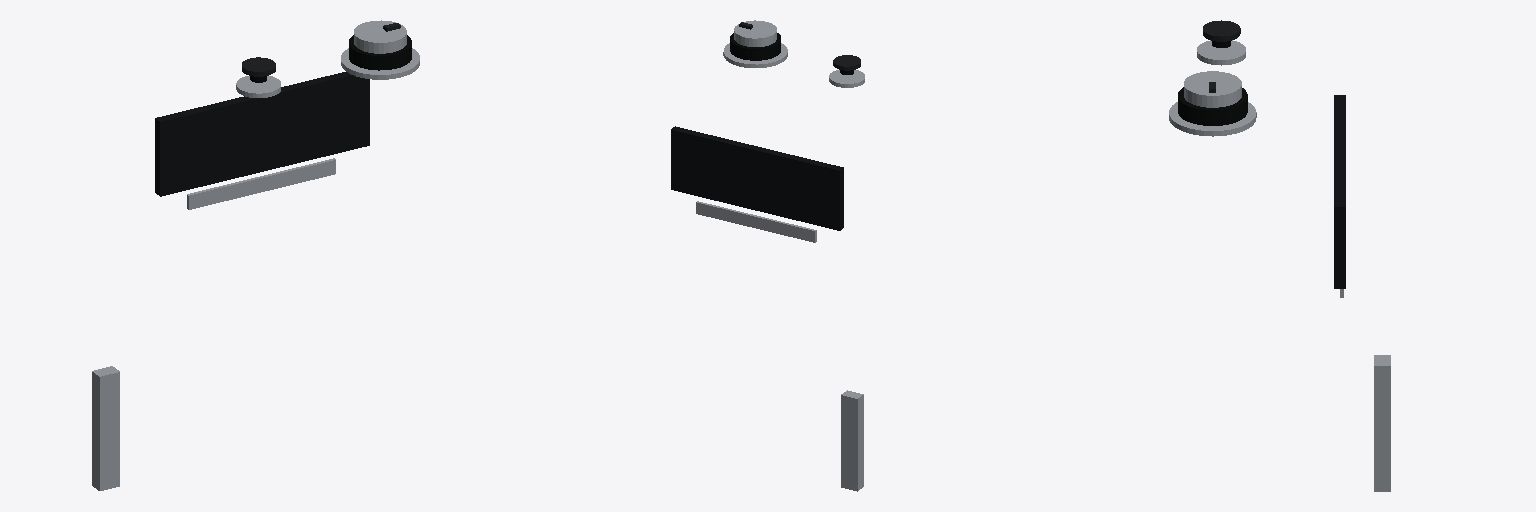
URDF robot description (air_purifier):
<robot name="air_purifier">
  <link name="body">
    <inertial>
      <origin xyz="0 0 0.334" rpy="0 0 0" />
      <mass value="9" />
      <inertia ixx="0.385368" ixy="0" ixz="0" iyy="0.431868" iyz="0" izz="0.1479" />
    </inertial>
    <visual>
      <geometry>
        <mesh filename="meshes/base_plinth.glb" />
      </geometry>
      <material name="charcoal_abs">
        <color rgba="0.14 0.15 0.16 1" />
      </material>
    </visual>
    <visual>
      <origin xyz="0 0 0.02" rpy="0 0 0" />
      <geometry>
        <mesh filename="meshes/main_shell.glb" />
      </geometry>
      <material name="shell_white">
        <color rgba="0.93 0.94 0.92 1" />
      </material>
    </visual>
    <visual>
      <origin xyz="0 0 0.654" rpy="0 0 0" />
      <geometry>
        <mesh filename="meshes/top_cap.glb" />
      </geometry>
      <material name="shell_white">
        <color rgba="0.93 0.94 0.92 1" />
      </material>
    </visual>
    <visual>
      <origin xyz="0 -0.03 0.658" rpy="0 0 0" />
      <geometry>
        <mesh filename="meshes/top_exhaust.glb" />
      </geometry>
      <material name="charcoal_abs">
        <color rgba="0.14 0.15 0.16 1" />
      </material>
    </visual>
    <visual>
      <origin xyz="0 0.03 0.658" rpy="0 0 0" />
      <geometry>
        <mesh filename="meshes/control_deck.glb" />
      </geometry>
      <material name="smoked_glass">
        <color rgba="0.1 0.11 0.12 0.9" />
      </material>
    </visual>
    <visual>
      <origin xyz="0 -0.117 0.305" rpy="1.5708 0 0" />
      <geometry>
        <mesh filename="meshes/rear_intake.glb" />
      </geometry>
      <material name="charcoal_abs">
        <color rgba="0.14 0.15 0.16 1" />
      </material>
    </visual>
    <visual>
      <origin xyz="0 0.117 0.58" rpy="0 0 0" />
      <geometry>
        <box size="0.182 0.008 0.062" />
      </geometry>
      <material name="smoked_glass">
        <color rgba="0.1 0.11 0.12 0.9" />
      </material>
    </visual>
    <visual>
      <origin xyz="0 0.1185 0.536" rpy="0 0 0" />
      <geometry>
        <box size="0.128 0.003 0.012" />
      </geometry>
      <material name="brushed_aluminum">
        <color rgba="0.63 0.65 0.67 1" />
      </material>
    </visual>
    <visual>
      <origin xyz="0.052 0.03 0.662" rpy="0 0 0" />
      <geometry>
        <cylinder radius="0.03" length="0.004" />
      </geometry>
      <material name="brushed_aluminum">
        <color rgba="0.63 0.65 0.67 1" />
      </material>
    </visual>
    <visual>
      <origin xyz="-0.05 0.036 0.662" rpy="0 0 0" />
      <geometry>
        <cylinder radius="0.017" length="0.004" />
      </geometry>
      <material name="brushed_aluminum">
        <color rgba="0.63 0.65 0.67 1" />
      </material>
    </visual>
    <collision name="body__visual_1__hull_001">
      <geometry>
        <mesh filename="meshes/collision/cache/ea7131efe0071874e7fa7aa3__hull_001.obj" />
      </geometry>
    </collision>
    <collision name="body__visual_2__hull_001">
      <origin xyz="0 0 0.02" rpy="0 0 0" />
      <geometry>
        <mesh filename="meshes/collision/cache/fce6f4a88becaa7b729aeb84__hull_001.obj" />
      </geometry>
    </collision>
    <collision name="body__visual_3__hull_001">
      <origin xyz="0 0 0.654" rpy="0 0 0" />
      <geometry>
        <mesh filename="meshes/collision/cache/f56e50df85797498d2b95fa3__hull_001.obj" />
      </geometry>
    </collision>
    <collision name="body__visual_4__hull_001">
      <origin xyz="0 -0.03 0.658" rpy="0 0 0" />
      <geometry>
        <mesh filename="meshes/collision/cache/e8f8333ead6528121746bf22__hull_001.obj" />
      </geometry>
    </collision>
    <collision name="body__visual_5__hull_001">
      <origin xyz="0 0.03 0.658" rpy="0 0 0" />
      <geometry>
        <mesh filename="meshes/collision/cache/e530d58affb329de1ba5adee__hull_001.obj" />
      </geometry>
    </collision>
    <collision name="body__visual_6__hull_001">
      <origin xyz="0 -0.117 0.305" rpy="1.5708 0 0" />
      <geometry>
        <mesh filename="meshes/collision/cache/5c7f7a3e9c482f12d4eb3c29__hull_001.obj" />
      </geometry>
    </collision>
    <collision name="body__visual_7">
      <origin xyz="0 0.117 0.58" rpy="0 0 0" />
      <geometry>
        <box size="0.182 0.008 0.062" />
      </geometry>
    </collision>
    <collision name="body__visual_8">
      <origin xyz="0 0.1185 0.536" rpy="0 0 0" />
      <geometry>
        <box size="0.128 0.003 0.012" />
      </geometry>
    </collision>
    <collision name="body__visual_9">
      <origin xyz="0.052 0.03 0.662" rpy="0 0 0" />
      <geometry>
        <cylinder radius="0.03" length="0.004" />
      </geometry>
    </collision>
    <collision name="body__visual_10">
      <origin xyz="-0.05 0.036 0.662" rpy="0 0 0" />
      <geometry>
        <cylinder radius="0.017" length="0.004" />
      </geometry>
    </collision>
  </link>
  <link name="filter_door">
    <inertial>
      <origin xyz="-0.144 0.009 0" rpy="0 0 0" />
      <mass value="1.1" />
      <inertia ixx="0.0220389" ixy="0" ixz="0" iyy="0.0296124" iyz="0" izz="0.0076329" />
    </inertial>
    <visual>
      <origin xyz="-0.144 0.009 0" rpy="0 0 0" />
      <geometry>
        <mesh filename="meshes/filter_door_panel.glb" />
      </geometry>
      <material name="shell_white">
        <color rgba="0.93 0.94 0.92 1" />
      </material>
    </visual>
    <visual>
      <origin xyz="-0.144 0.016 -0.055" rpy="1.5708 0 0" />
      <geometry>
        <mesh filename="meshes/filter_door_grille.glb" />
      </geometry>
      <material name="charcoal_abs">
        <color rgba="0.14 0.15 0.16 1" />
      </material>
    </visual>
    <visual>
      <origin xyz="-0.263 0.022 0.02" rpy="0 0 0" />
      <geometry>
        <box size="0.018 0.012 0.095" />
      </geometry>
      <material name="brushed_aluminum">
        <color rgba="0.63 0.65 0.67 1" />
      </material>
    </visual>
    <collision name="filter_door__visual_1__hull_001">
      <origin xyz="-0.144 0.009 0" rpy="0 0 0" />
      <geometry>
        <mesh filename="meshes/collision/cache/64c93fb4611c499a2d91a11c__hull_001.obj" />
      </geometry>
    </collision>
    <collision name="filter_door__visual_2__hull_001">
      <origin xyz="-0.144 0.016 -0.055" rpy="1.5708 0 0" />
      <geometry>
        <mesh filename="meshes/collision/cache/056f5a6ad1d4830ec753c25b__hull_001.obj" />
      </geometry>
    </collision>
    <collision name="filter_door__visual_3">
      <origin xyz="-0.263 0.022 0.02" rpy="0 0 0" />
      <geometry>
        <box size="0.018 0.012 0.095" />
      </geometry>
    </collision>
  </link>
  <link name="control_knob">
    <inertial>
      <origin xyz="0 0 0.01225" rpy="0 0 0" />
      <mass value="0.09" />
      <inertia ixx="1.67569e-05" ixy="0" ixz="0" iyy="1.67569e-05" iyz="0" izz="2.592e-05" />
    </inertial>
    <visual>
      <origin xyz="0 0 0.007" rpy="0 0 0" />
      <geometry>
        <cylinder radius="0.024" length="0.012" />
      </geometry>
      <material name="soft_rubber">
        <color rgba="0.07 0.08 0.08 1" />
      </material>
    </visual>
    <visual>
      <origin xyz="0 0 0.0175" rpy="0 0 0" />
      <geometry>
        <cylinder radius="0.02" length="0.009" />
      </geometry>
      <material name="brushed_aluminum">
        <color rgba="0.63 0.65 0.67 1" />
      </material>
    </visual>
    <visual>
      <origin xyz="0.01 0 0.0235" rpy="0 0 0" />
      <geometry>
        <box size="0.012 0.005 0.003" />
      </geometry>
      <material name="charcoal_abs">
        <color rgba="0.14 0.15 0.16 1" />
      </material>
    </visual>
    <collision name="control_knob__visual_1">
      <origin xyz="0 0 0.007" rpy="0 0 0" />
      <geometry>
        <cylinder radius="0.024" length="0.012" />
      </geometry>
    </collision>
    <collision name="control_knob__visual_2">
      <origin xyz="0 0 0.0175" rpy="0 0 0" />
      <geometry>
        <cylinder radius="0.02" length="0.009" />
      </geometry>
    </collision>
    <collision name="control_knob__visual_3">
      <origin xyz="0.01 0 0.0235" rpy="0 0 0" />
      <geometry>
        <box size="0.012 0.005 0.003" />
      </geometry>
    </collision>
  </link>
  <link name="power_button">
    <inertial>
      <origin xyz="0 0 0.01" rpy="0 0 0" />
      <mass value="0.02" />
      <inertia ixx="1.085e-06" ixy="0" ixz="0" iyy="1.085e-06" iyz="0" izz="1.69e-06" />
    </inertial>
    <visual>
      <origin xyz="0 0 0.008" rpy="0 0 0" />
      <geometry>
        <cylinder radius="0.0065" length="0.008" />
      </geometry>
      <material name="soft_rubber">
        <color rgba="0.07 0.08 0.08 1" />
      </material>
    </visual>
    <visual>
      <origin xyz="0 0 0.014" rpy="0 0 0" />
      <geometry>
        <cylinder radius="0.013" length="0.004" />
      </geometry>
      <material name="charcoal_abs">
        <color rgba="0.14 0.15 0.16 1" />
      </material>
    </visual>
    <collision name="power_button__visual_1">
      <origin xyz="0 0 0.008" rpy="0 0 0" />
      <geometry>
        <cylinder radius="0.0065" length="0.008" />
      </geometry>
    </collision>
    <collision name="power_button__visual_2">
      <origin xyz="0 0 0.014" rpy="0 0 0" />
      <geometry>
        <cylinder radius="0.013" length="0.004" />
      </geometry>
    </collision>
  </link>
  <joint name="filter_door_hinge" type="revolute">
    <origin xyz="0.144 0.124 0.33" rpy="0 0 0" />
    <parent link="body" />
    <child link="filter_door" />
    <axis xyz="0 0 -1" />
    <limit effort="12" velocity="1.5" lower="0" upper="1.45" />
  </joint>
  <joint name="control_knob_spin" type="continuous">
    <origin xyz="0.052 0.03 0.664" rpy="0 0 0" />
    <parent link="body" />
    <child link="control_knob" />
    <axis xyz="0 0 1" />
    <limit effort="2.5" velocity="6" />
  </joint>
  <joint name="power_button_slide" type="prismatic">
    <origin xyz="-0.05 0.036 0.664" rpy="0 0 0" />
    <parent link="body" />
    <child link="power_button" />
    <axis xyz="0 0 -1" />
    <limit effort="8" velocity="0.2" lower="0" upper="0.0025" />
  </joint>
</robot>

--- Facts derived from the render (not from the file) ---
3 views of the same robot in one strip: view 1: azimuth 30°, elevation 25°; view 2: azimuth 150°, elevation 25°; view 3: azimuth 270°, elevation 25° (orthographic).
Model air_purifier with 4 links and 3 joints (1 revolute, 1 continuous, 1 prismatic), rooted at body, posed every joint at zero.
Links seen in each view (by area): view 1: body, filter_door, control_knob, power_button; view 2: body, filter_door, control_knob; view 3: body, control_knob, filter_door, power_button.
Link boxes in pixels (bbox=[...]): body: bbox=[155, 48, 419, 209]; filter_door: bbox=[92, 366, 119, 490]; control_knob: bbox=[349, 20, 411, 70]; power_button: bbox=[242, 57, 275, 82]; body: bbox=[671, 43, 864, 242]; filter_door: bbox=[841, 390, 863, 491]; control_knob: bbox=[730, 20, 780, 60]; body: bbox=[1169, 40, 1345, 297]; control_knob: bbox=[1178, 71, 1247, 125]; filter_door: bbox=[1374, 355, 1390, 491]; power_button: bbox=[1203, 20, 1240, 47].
Bounding box of the posed robot: 0.219 × 0.152 × 0.3865 m (x, y, z).
0 mesh visuals loaded from 8 distinct referenced files (none loaded); not drawn: 8 (reference not matched to a file when rendering).
